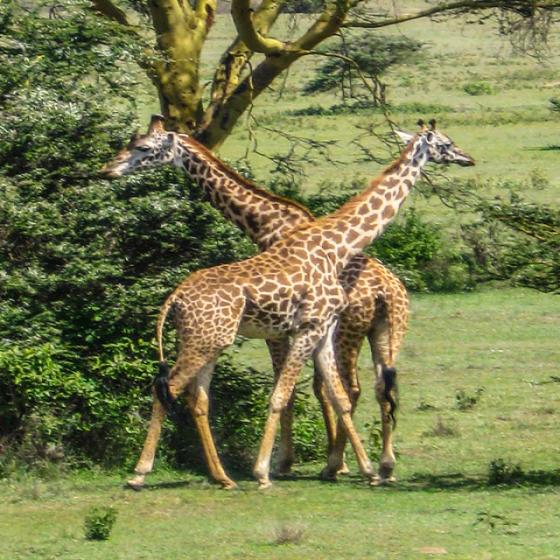giraffe: (123, 116, 477, 494), (106, 123, 408, 460)
